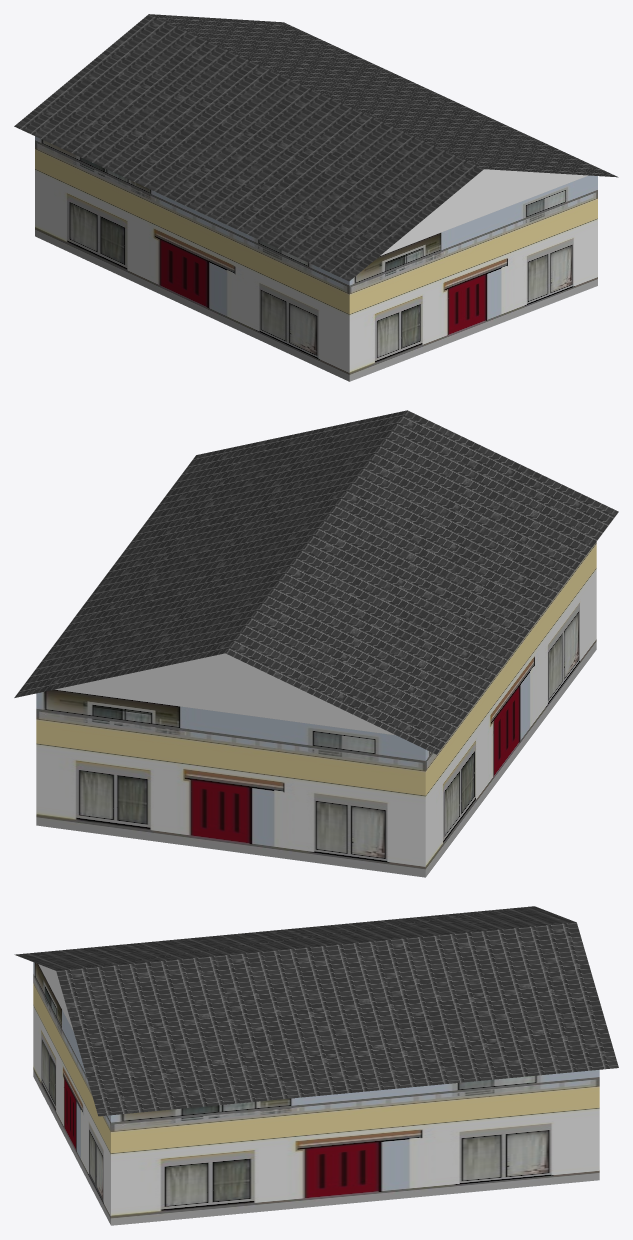
The picture shows the model from 3 angles, top to bottom: view 1: azimuth 30°, elevation 25°; view 2: azimuth 150°, elevation 25°; view 3: azimuth 270°, elevation 25°; orthographic projection. The views are drawn at different scales.
Visible parts, largest first — view 1: CityEngineMaterial_16_m, CityEngineMaterial_15_m, CityEngineMaterial_3_m; view 2: CityEngineMaterial_16_m, CityEngineMaterial_15_m, CityEngineMaterial_3_m; view 3: CityEngineMaterial_16_m, CityEngineMaterial_15_m, CityEngineMaterial_3_m.
Boxes of the visible parts, x1,y1,x2,y2 form: CityEngineMaterial_16_m: (14,14,618,281); CityEngineMaterial_15_m: (35,136,597,381); CityEngineMaterial_3_m: (380,169,587,255); CityEngineMaterial_16_m: (14,410,618,754); CityEngineMaterial_15_m: (36,542,596,877); CityEngineMaterial_3_m: (55,653,395,735); CityEngineMaterial_16_m: (14,906,618,1116); CityEngineMaterial_15_m: (33,962,599,1225); CityEngineMaterial_3_m: (38,964,73,1031).
Size of the model in its own units: 30.3 by 12.22 by 36.85.
